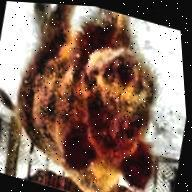boar: (0, 0, 184, 192)
